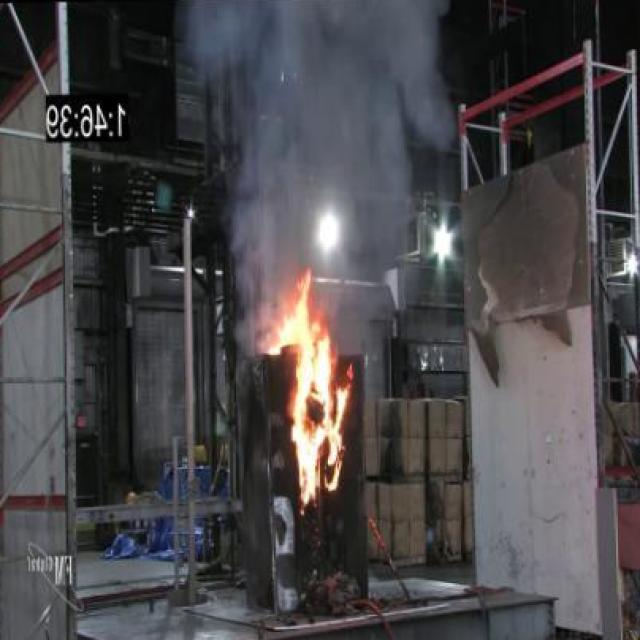fire: (182, 2, 475, 258)
smoke: (261, 260, 358, 510)
